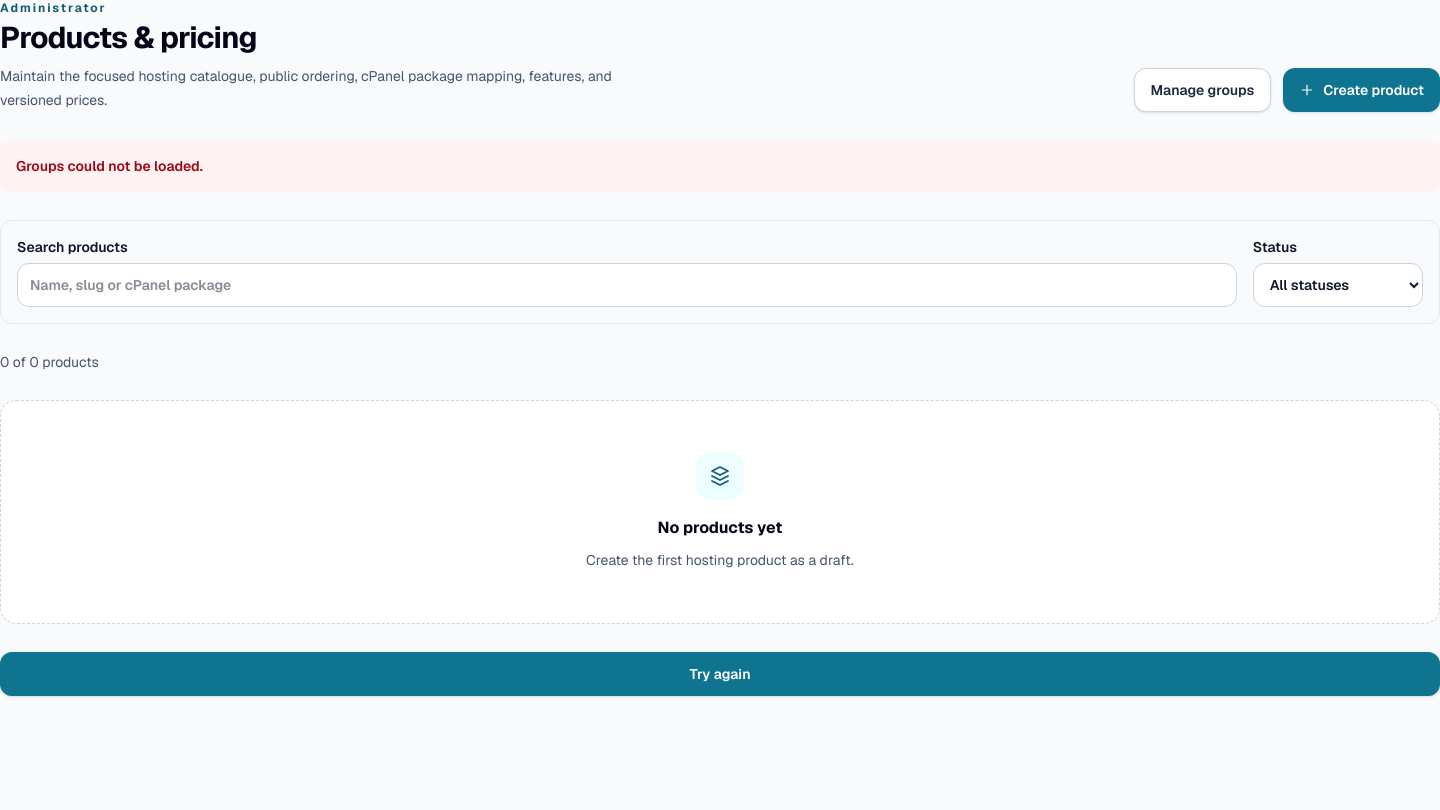
Test case: product and pricing interfaces › shows a group loading failure and retries both catalogue requests
The image size is (1440, 810).
Expected: the message reads "Groups could not be loaded.", [16, 157, 203, 175]
Click the button "Try again": (720, 674) [0, 652, 1439, 696]
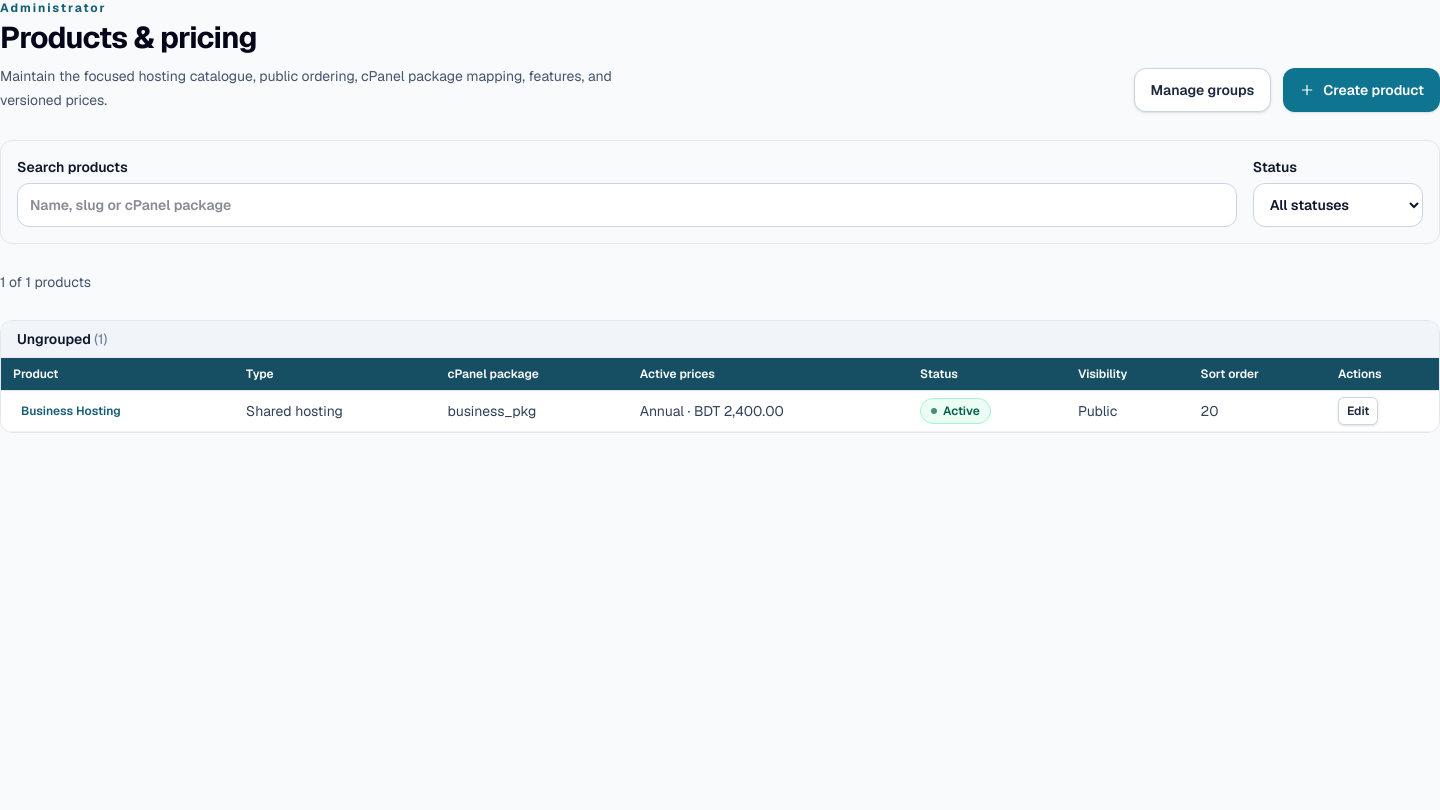
Click the button "Business Hosting": (71, 411) [13, 397, 129, 425]
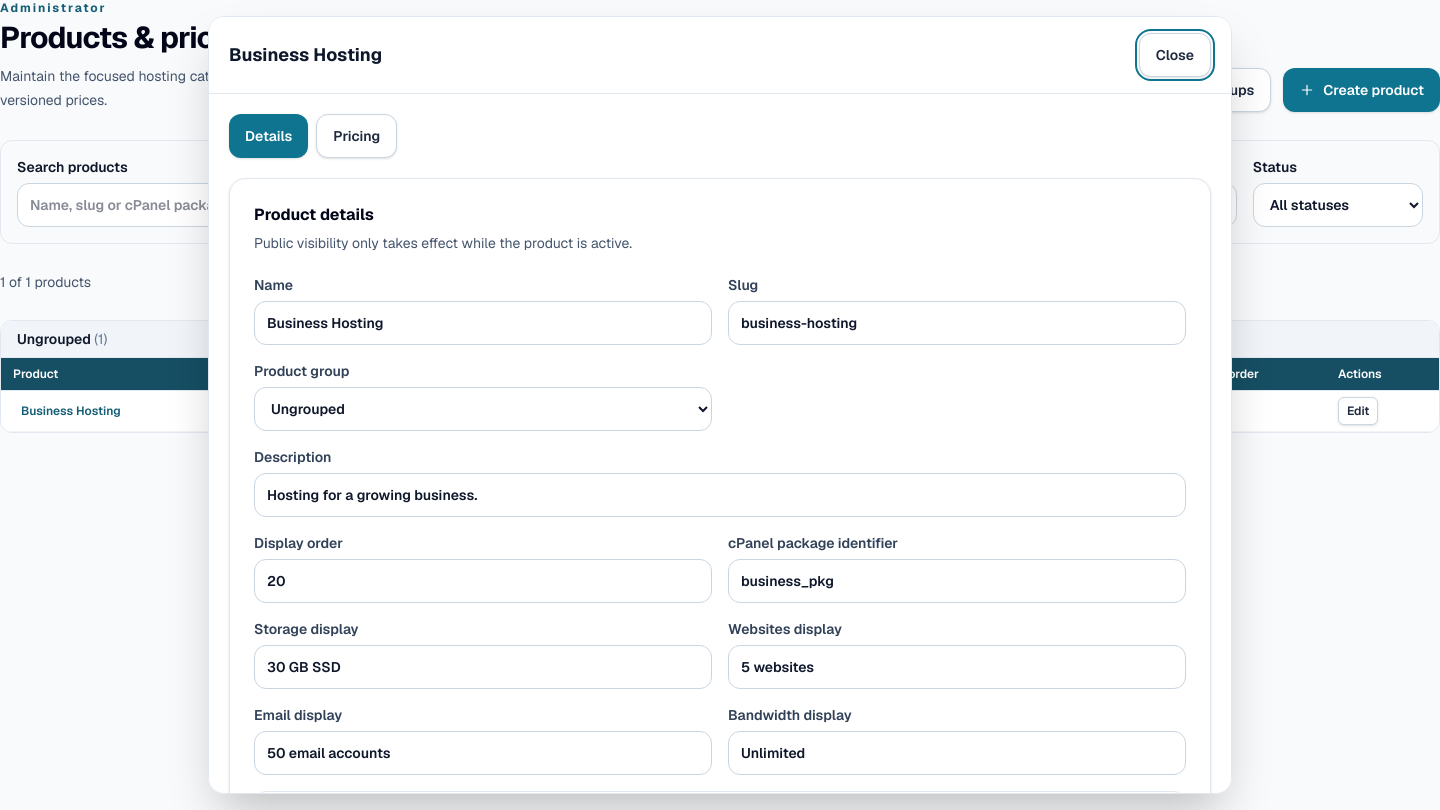
Expected: the field showing "business_pkg" is shown, [728, 559, 1186, 603]
